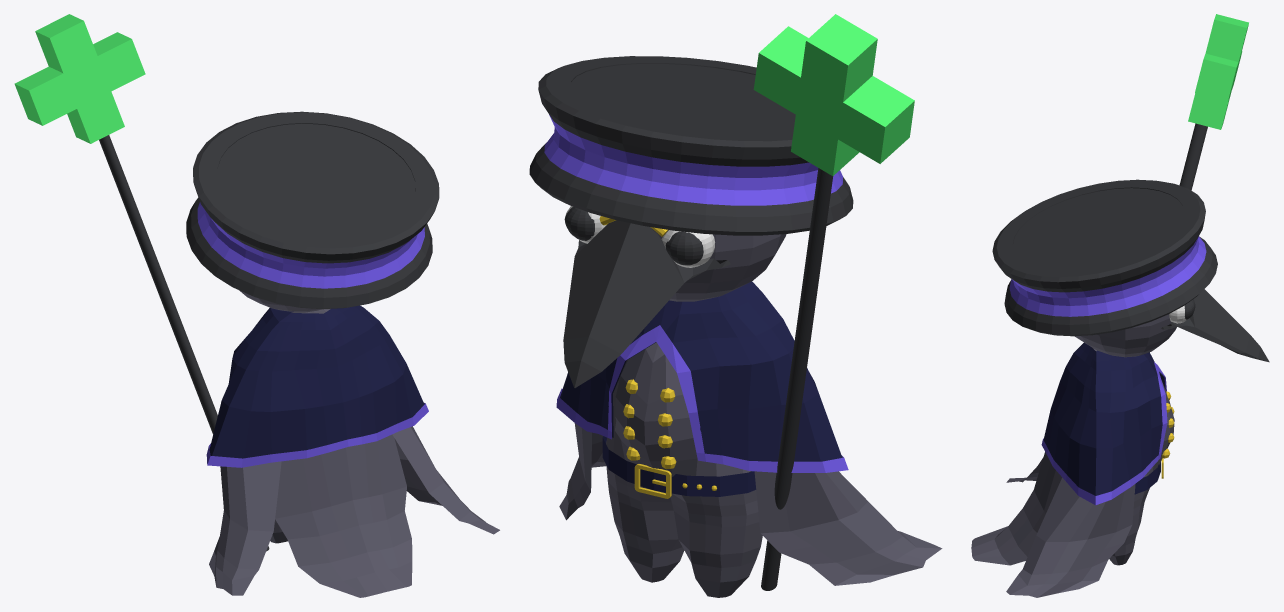
The model's file is healer.fbx.
The picture shows the model from 3 angles, left to right: view 1: azimuth 30°, elevation 25°; view 2: azimuth 150°, elevation 25°; view 3: azimuth 270°, elevation 25°; orthographic projection. The views are drawn at different scales.
Parts seen in each view (by area): view 1: Hut.001, mantel.002, mantel.003, Plus, Hut, Satb, mantel.001; view 2: Hut.001, mantel.003, Body, Plus, mantel.002, Cube, Hut, Satb, mantel.001, Sphere.001, Cylinder.001, Sphere.004 (+3 smaller); view 3: Hut.001, mantel.003, mantel.002, Hut, Plus, Cube, Sphere.001, mantel.001, Body, Satb.
Boxes of the visible parts, x1,y1,x2,y2 form: Hut.001: [186, 111, 439, 309]; mantel.002: [209, 426, 499, 597]; mantel.003: [209, 305, 424, 458]; Plus: [14, 14, 145, 143]; Hut: [197, 202, 424, 288]; Satb: [99, 135, 269, 551]; mantel.001: [206, 403, 428, 467]; Hut.001: [529, 56, 853, 235]; mantel.003: [560, 281, 842, 461]; Body: [606, 342, 762, 597]; Plus: [753, 14, 914, 175]; mantel.002: [559, 423, 942, 585]; Cube: [563, 220, 730, 388]; Hut: [544, 114, 843, 205]; Satb: [761, 168, 833, 590]; mantel.001: [556, 325, 848, 472]; Sphere.001: [649, 227, 786, 301]; Cylinder.001: [602, 436, 756, 496]; Sphere.004: [665, 231, 703, 265]; Hut.001: [992, 179, 1217, 336]; mantel.003: [1043, 342, 1165, 495]; mantel.002: [971, 452, 1135, 597]; Hut: [1009, 236, 1206, 316]; Plus: [1188, 14, 1248, 129]; Cube: [1161, 289, 1269, 362]; Sphere.001: [1075, 314, 1176, 357]; mantel.001: [1041, 362, 1167, 505]; Body: [1091, 347, 1174, 565]; Satb: [1179, 123, 1207, 190].
Size of the model in its own units: 694 by 948 by 559.
